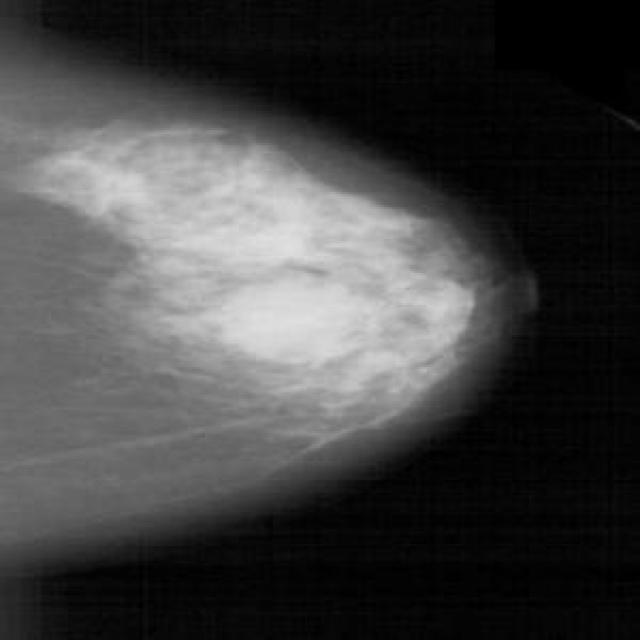tumor: (177, 243, 482, 371)
